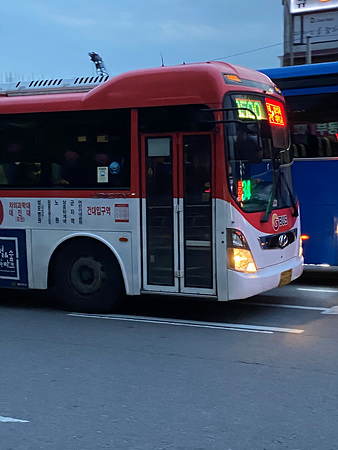entrance: (136, 117, 218, 301)
